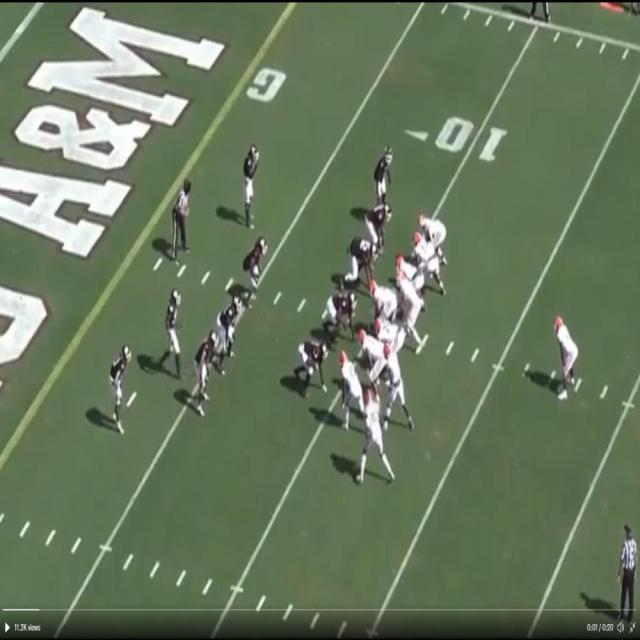center: (368, 274, 395, 316)
db: (620, 523, 638, 615), (112, 350, 129, 429), (246, 143, 261, 226), (168, 292, 184, 363), (373, 148, 393, 198)
lb: (199, 327, 215, 413), (222, 293, 241, 360), (248, 232, 264, 292)
qb: (397, 268, 417, 358)
skill: (554, 316, 580, 400), (338, 349, 362, 434), (384, 344, 407, 429), (365, 380, 386, 460), (418, 212, 450, 246)
